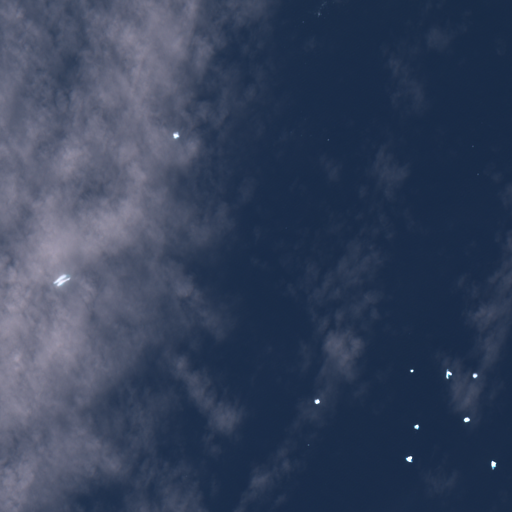Iceberg: (53, 274, 70, 286), (446, 369, 451, 378), (491, 460, 496, 469), (405, 456, 412, 462), (173, 132, 179, 138), (314, 398, 319, 404), (463, 417, 469, 422), (472, 373, 477, 378), (414, 424, 419, 429), (410, 369, 413, 372), (307, 444, 309, 445), (327, 139, 328, 140), (472, 145, 473, 146), (477, 173, 478, 174)
